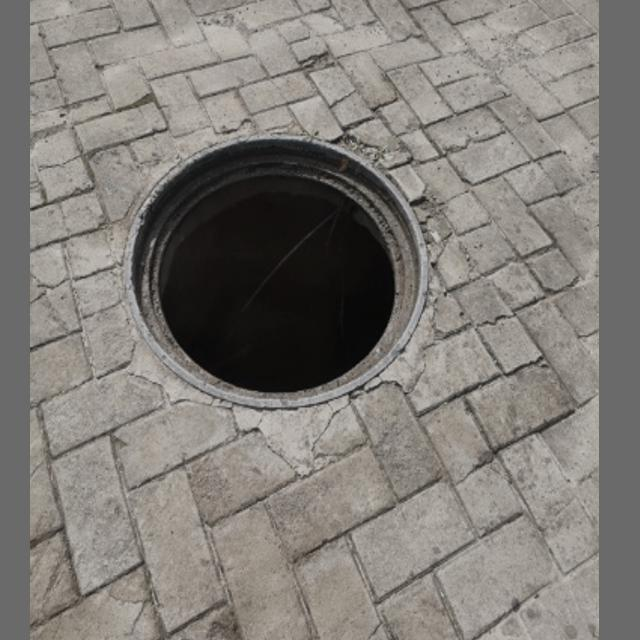lose: (125, 132, 431, 405)
